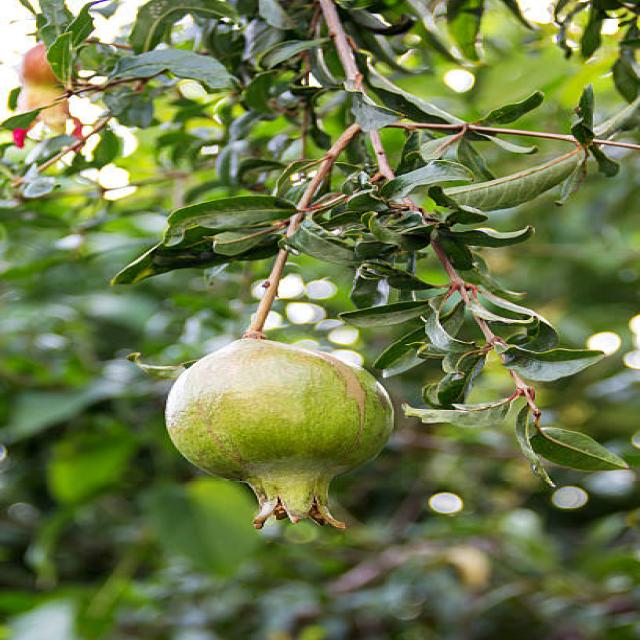Unripe: (163, 331, 396, 529)
